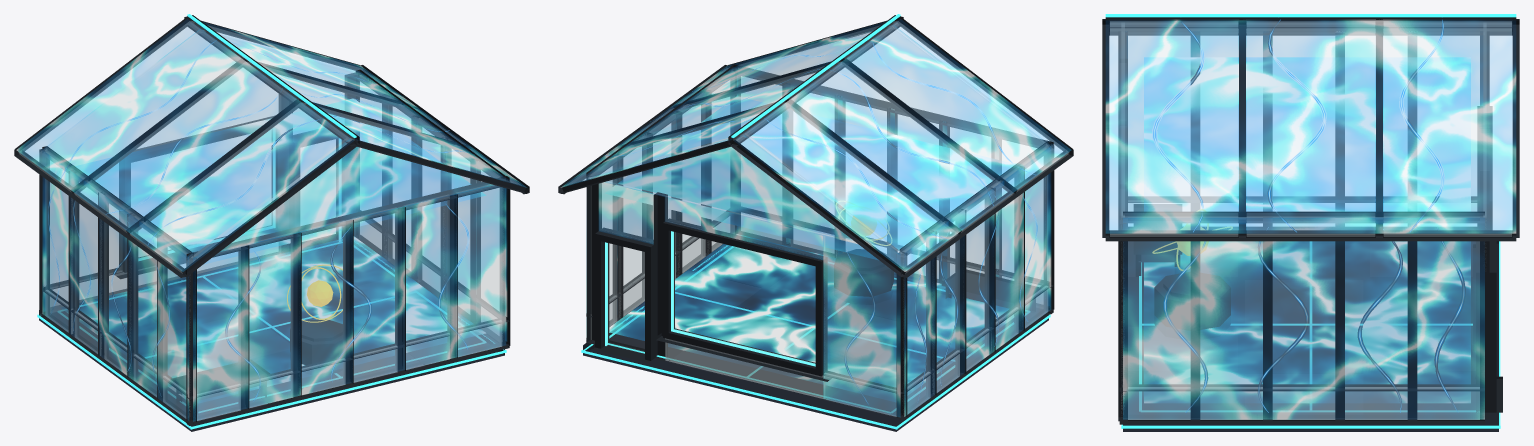
Rendered from prism-data.glb.
The picture shows the model from 3 angles, left to right: view 1: azimuth 30°, elevation 25°; view 2: azimuth 150°, elevation 25°; view 3: azimuth 270°, elevation 25°; orthographic projection. The views are drawn at different scales.
Parts seen in each view (by area): view 1: Prism_Energy_Skin, Room_Walls, Room_Roof, Prism_Mist, Room_Floor, Window_Frame, Prism_Interior, Prism_Energy_Veins, Prism_Glow, Door_Frame, Prism_Heart, Prism_Rim; view 2: Prism_Energy_Skin, Room_Walls, Room_Roof, Prism_Mist, Room_Floor, Window_Frame, Prism_Interior, Door_Frame, Prism_Glow, Prism_Energy_Veins, Prism_Rim, Prism_Heart; view 3: Prism_Energy_Skin, Room_Roof, Room_Walls, Prism_Mist, Room_Floor, Prism_Interior, Prism_Energy_Veins, Door_Frame, Prism_Glow, Window_Frame, Prism_Heart.
Boxes of the visible parts, x1,y1,x2,y2 form: Prism_Energy_Skin: (16, 23, 526, 421); Room_Walls: (39, 30, 510, 425); Room_Roof: (14, 15, 529, 277); Prism_Mist: (66, 98, 485, 398); Room_Floor: (39, 239, 504, 431); Window_Frame: (114, 116, 283, 278); Prism_Interior: (173, 319, 342, 414); Prism_Energy_Veins: (48, 40, 484, 401); Prism_Glow: (37, 14, 506, 429); Door_Frame: (289, 131, 349, 254); Prism_Heart: (287, 264, 342, 322); Prism_Rim: (138, 133, 341, 260); Prism_Energy_Skin: (561, 19, 1070, 416); Room_Walls: (586, 26, 1054, 420); Room_Roof: (558, 15, 1073, 277); Prism_Mist: (605, 97, 1013, 391); Room_Floor: (583, 237, 1048, 431); Window_Frame: (656, 218, 831, 381); Prism_Interior: (834, 249, 1038, 312); Door_Frame: (592, 227, 657, 362); Prism_Glow: (581, 14, 1050, 429); Prism_Energy_Veins: (605, 42, 1037, 404); Prism_Rim: (605, 231, 815, 366); Prism_Heart: (836, 203, 891, 245); Prism_Energy_Skin: (1105, 19, 1516, 419); Room_Roof: (1102, 17, 1519, 241); Room_Walls: (1118, 28, 1489, 424); Prism_Mist: (1144, 57, 1470, 402); Room_Floor: (1123, 241, 1498, 431); Prism_Interior: (1133, 204, 1230, 340); Prism_Energy_Veins: (1153, 19, 1464, 412); Door_Frame: (1475, 241, 1502, 412); Prism_Glow: (1105, 14, 1516, 428); Window_Frame: (1473, 106, 1492, 350); Prism_Heart: (1152, 209, 1232, 270).
Size of the model in its own units: 7.12 by 5.13 by 6.
Materials: 12 (3 with a texture image).
